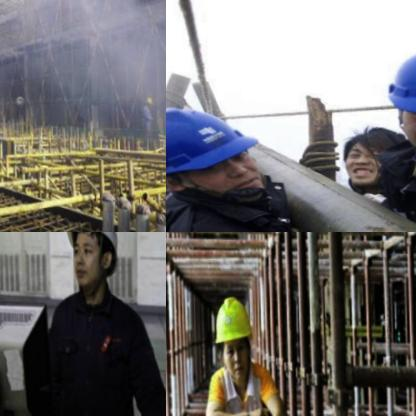helmet: (166, 84, 279, 216), (373, 24, 416, 159), (212, 284, 259, 382), (60, 232, 121, 294), (142, 91, 154, 106)
